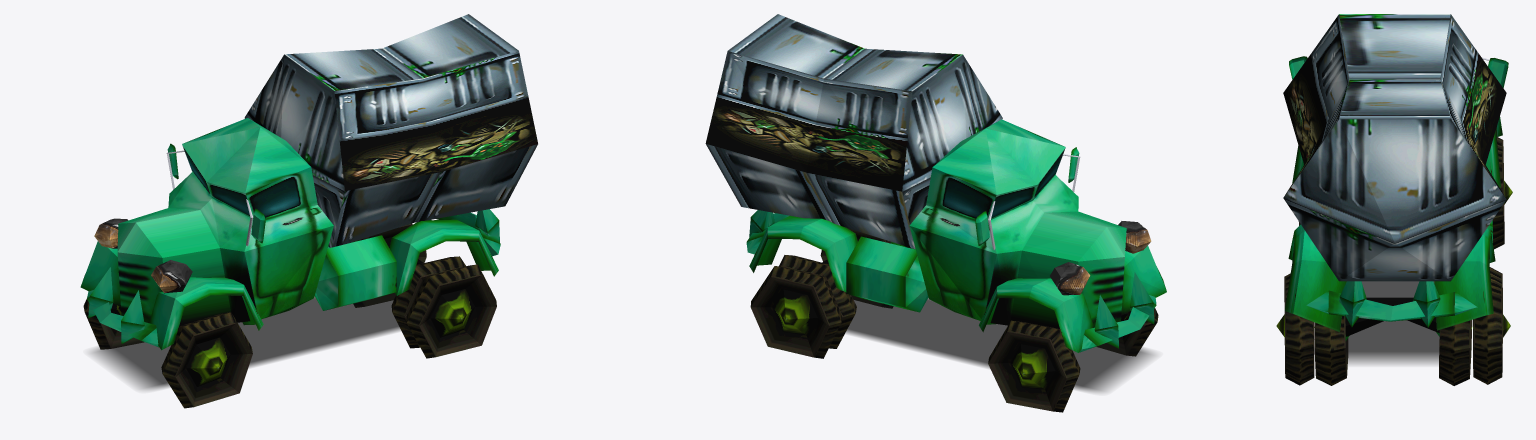
The model's file is LKW_ [Trash]_2963.glb.
The picture shows the model from 3 angles, left to right: view 1: azimuth 30°, elevation 25°; view 2: azimuth 150°, elevation 25°; view 3: azimuth 270°, elevation 25°; orthographic projection. The views are drawn at different scales.
Parts seen in each view (by area): view 1: pCylinderShape9, polySurfaceShape52, pPlaneShape5, pPlaneShape11, vrlShape, hrlShape, polySurfaceShape45, pCylinderShape5, pPlaneShape3, pPlaneShape1, hrl2Shape, pPlaneShape2 (+8 smaller); view 2: pCylinderShape9, polySurfaceShape52, pPlaneShape6, pPlaneShape11, vrrShape, hrrShape, polySurfaceShape53, pCylinderShape4, pPlaneShape4, pPlaneShape2, pPlaneShape1, hrr2Shape (+6 smaller); view 3: pCylinderShape9, pPlaneShape6, pPlaneShape5, pPlaneShape11, pPlaneShape3, pPlaneShape4, hrrShape, pCylinderShape6, hrlShape, hrr2Shape, hrl2Shape, vrrShape (+6 smaller).
Part boxes in pixels (x1,y1,x2,y2): pCylinderShape9: (244,14,537,247); polySurfaceShape52: (117,118,333,329); pPlaneShape5: (334,51,537,190); pPlaneShape11: (90,293,401,389); vrlShape: (161,312,252,408); hrlShape: (406,264,496,358); polySurfaceShape45: (245,173,316,299); pCylinderShape5: (314,235,396,310); pPlaneShape3: (389,219,498,295); pPlaneShape1: (149,277,263,350); hrl2Shape: (391,256,465,348); pPlaneShape2: (80,241,120,306); pCylinderShape9: (706,14,1002,249); polySurfaceShape52: (909,119,1126,328); pPlaneShape6: (705,51,912,191); pPlaneShape11: (842,295,1155,392); vrrShape: (988,320,1080,412); hrrShape: (750,266,841,358); polySurfaceShape53: (928,174,996,301); pCylinderShape4: (846,236,928,312); pPlaneShape4: (749,215,857,292); pPlaneShape2: (979,278,1093,352); pPlaneShape1: (1121,245,1166,315); hrr2Shape: (779,255,856,348); pCylinderShape9: (1283,14,1506,281); pPlaneShape6: (1440,14,1506,197); pPlaneShape5: (1283,14,1349,194); pPlaneShape11: (1345,281,1439,364); pPlaneShape3: (1284,224,1346,332); pPlaneShape4: (1434,228,1495,330); hrrShape: (1473,267,1510,384); pCylinderShape6: (1306,290,1477,321); hrlShape: (1276,273,1314,385); hrr2Shape: (1436,320,1472,385); hrl2Shape: (1314,316,1349,385); vrrShape: (1492,137,1512,249).
Bounding box in the file's own units: 0.86 × 0.4677 × 0.3584.
38 materials, 32 textured.
